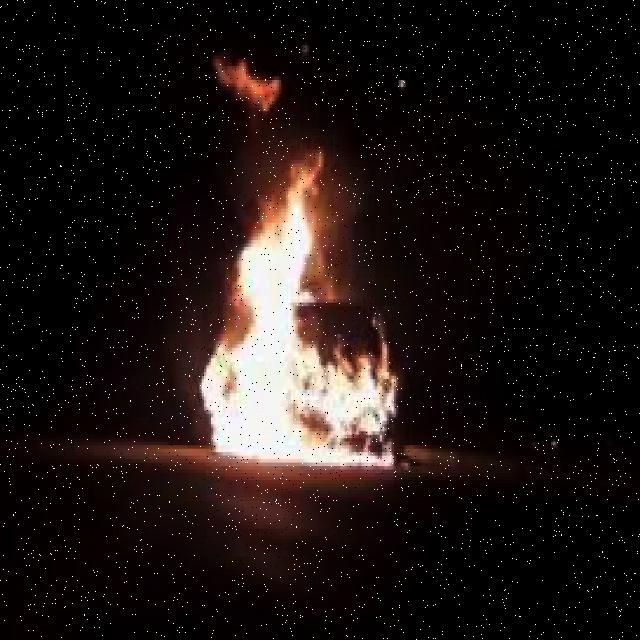fire: (210, 122, 419, 479)
